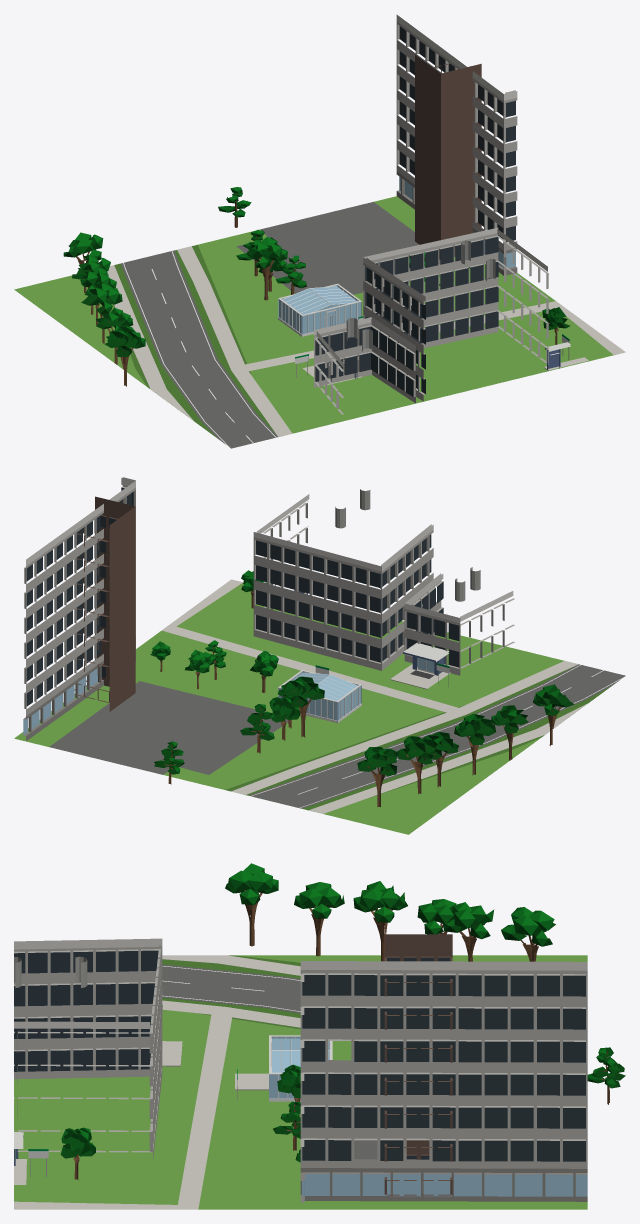
File: greenhouse.fbx
The picture shows the model from 3 angles, top to bottom: view 1: azimuth 30°, elevation 25°; view 2: azimuth 150°, elevation 25°; view 3: azimuth 270°, elevation 25°; orthographic projection. The views are drawn at different scales.
Parts seen in each view (by area): view 1: ext_greenhouse, ext_greenhouse_trees, wall_greenhouse; view 2: ext_greenhouse, ext_greenhouse_trees, wall_greenhouse; view 3: ext_greenhouse, ext_greenhouse_trees, wall_greenhouse.
Boxes of the visible parts, x1,y1,x2,y2 form: ext_greenhouse: (14, 14, 625, 448); ext_greenhouse_trees: (63, 187, 570, 386); wall_greenhouse: (278, 283, 361, 336); ext_greenhouse: (14, 477, 625, 834); ext_greenhouse_trees: (150, 570, 574, 806); wall_greenhouse: (278, 670, 361, 722); ext_greenhouse: (14, 934, 587, 1209); ext_greenhouse_trees: (60, 863, 625, 1180); wall_greenhouse: (269, 1035, 332, 1101).
Size of the model in its own units: 76.51 by 32.21 by 71.98.
